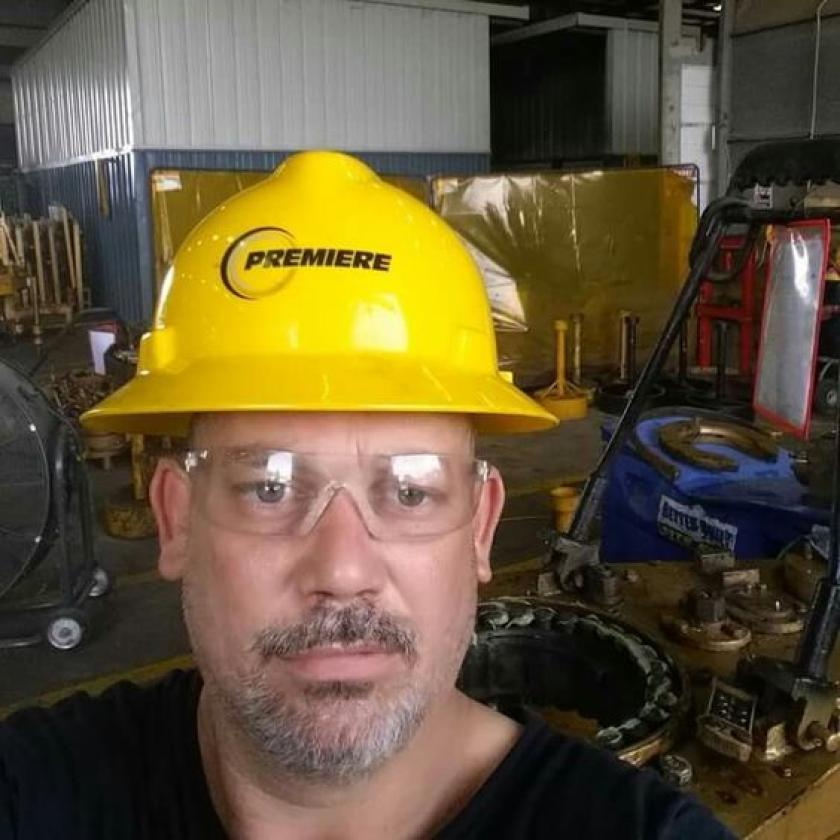Con_casco: (92, 155, 563, 817)
